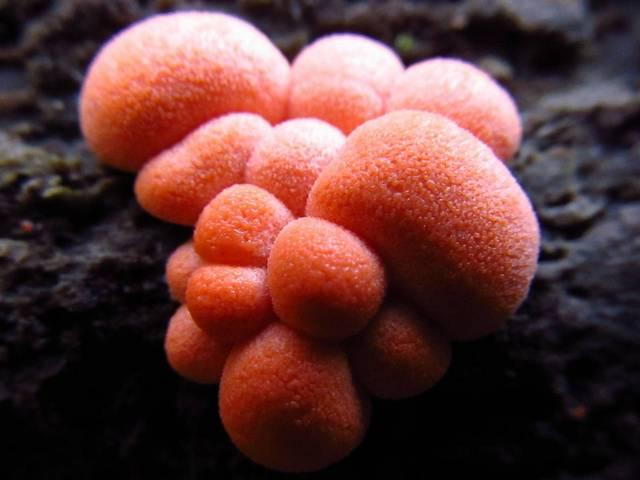Non-edible Mushroom: (77, 8, 542, 472), (304, 108, 541, 339), (77, 9, 290, 172), (216, 321, 367, 471), (265, 215, 387, 340), (385, 55, 523, 161), (285, 31, 404, 134)
